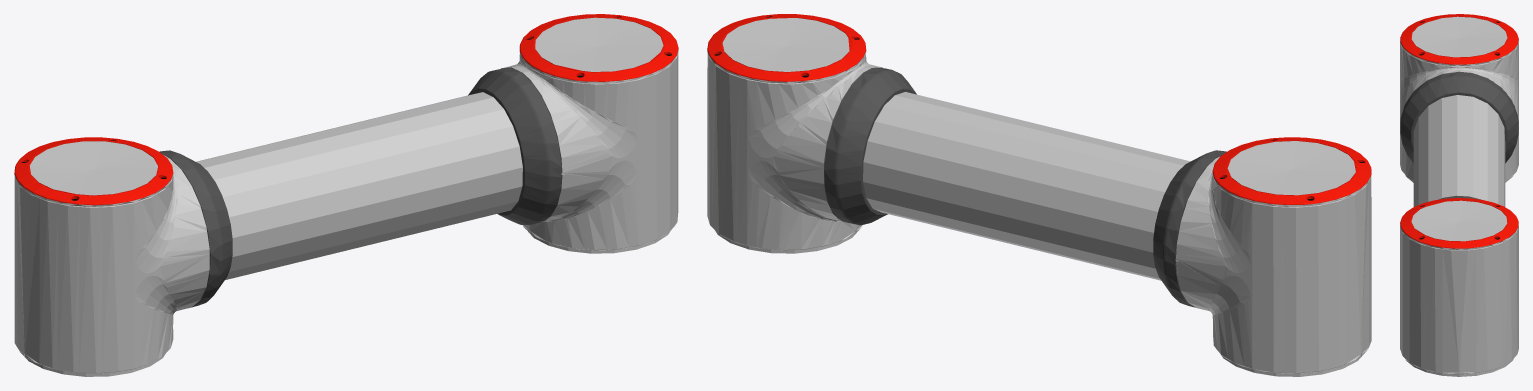
File: upperarm_link.obj
3 renders of one model, left to right at view 1: azimuth 30°, elevation 25°; view 2: azimuth 150°, elevation 25°; view 3: azimuth 270°, elevation 25°, orthographic. The views are drawn at different scales.
Parts seen in each view (by area): view 1: upperarm_link; view 2: upperarm_link; view 3: upperarm_link.
Boxes of the visible parts, bbox=[...] form: upperarm_link: bbox=[14, 14, 678, 376]; upperarm_link: bbox=[707, 14, 1371, 376]; upperarm_link: bbox=[1400, 14, 1518, 376].
Size of the model in its own units: 0.541 by 0.1434 by 0.116.
